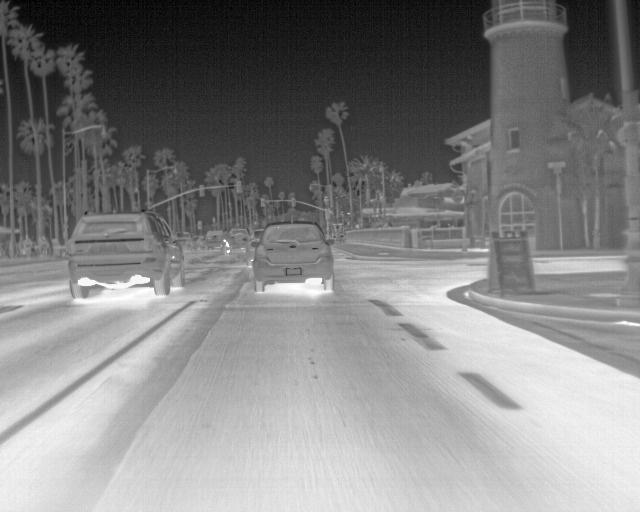bicycle: (64, 209, 184, 302), (253, 220, 337, 292), (225, 224, 248, 251), (202, 229, 228, 250)
